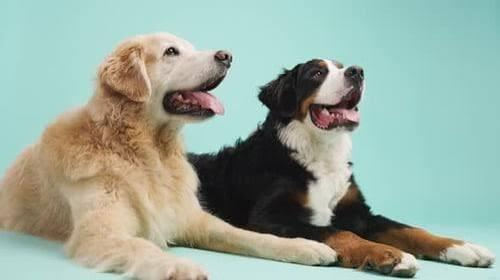adult_dog: (0, 32, 339, 280), (187, 59, 497, 275)
